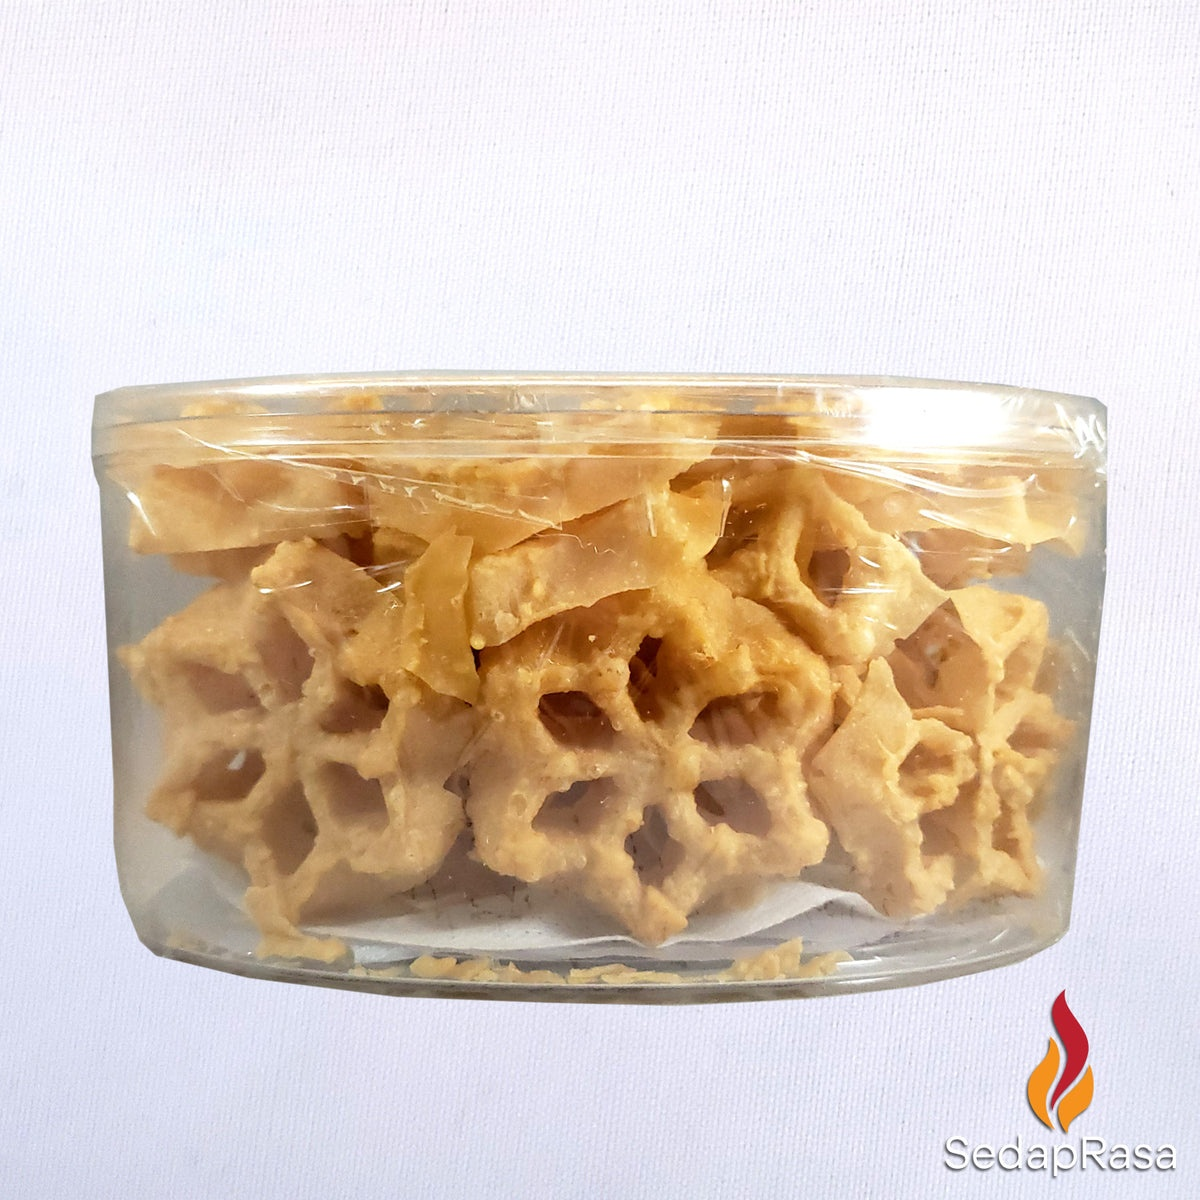kembang_goyang: (521, 545, 859, 962)
